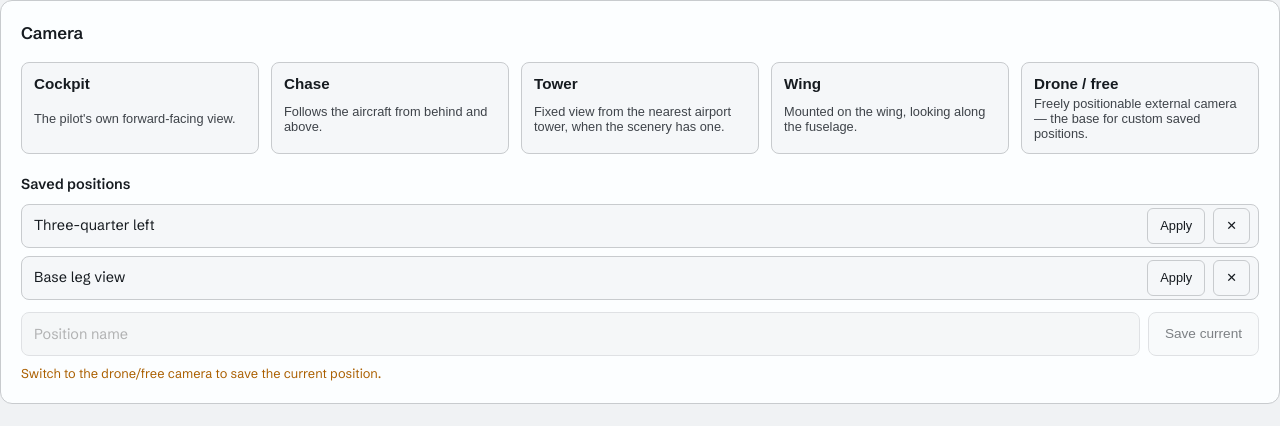
<CameraPanel /> › states a 409 on save as a precondition, not as an unsupported capability
The width and height of the screenshot is (1280, 426).
Step 1. Click the button "Drone" → (1140, 108), box top-left (1021, 62), bottom-right (1259, 154)
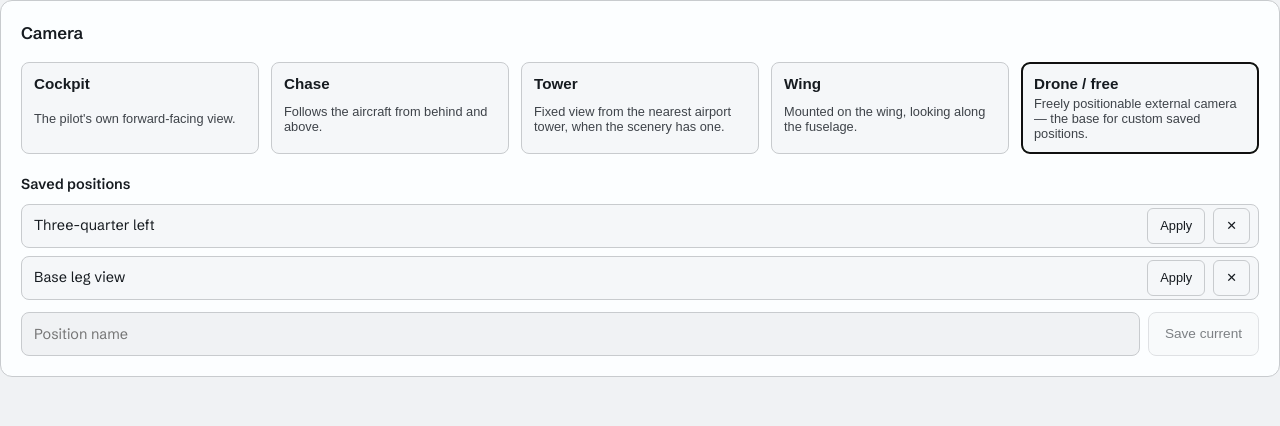
Step 2. Type "Base leg view" into the field labelled "Position name" → (580, 334), box top-left (21, 312), bottom-right (1140, 356)
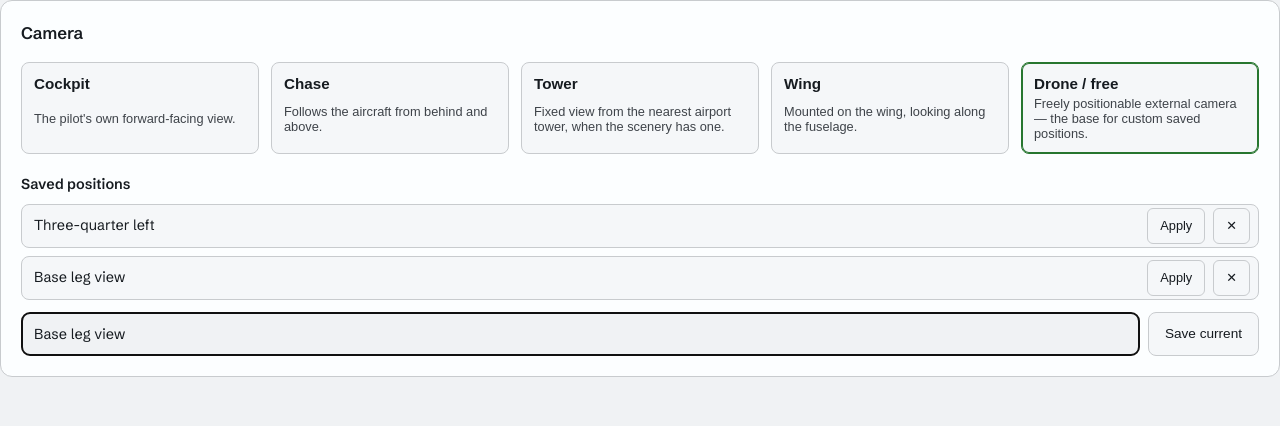
Step 3. Click the button "Save current" → (1203, 334), box top-left (1148, 312), bottom-right (1259, 356)
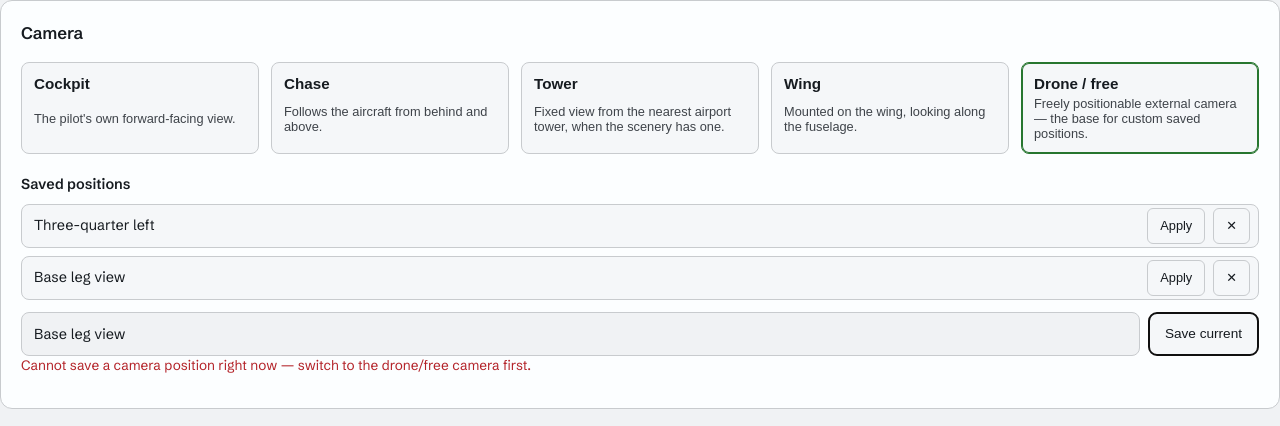
Result: the message reads "Cannot save a camera position right now — switch to the drone/free camera first." at top-left (21, 357), bottom-right (531, 374)
